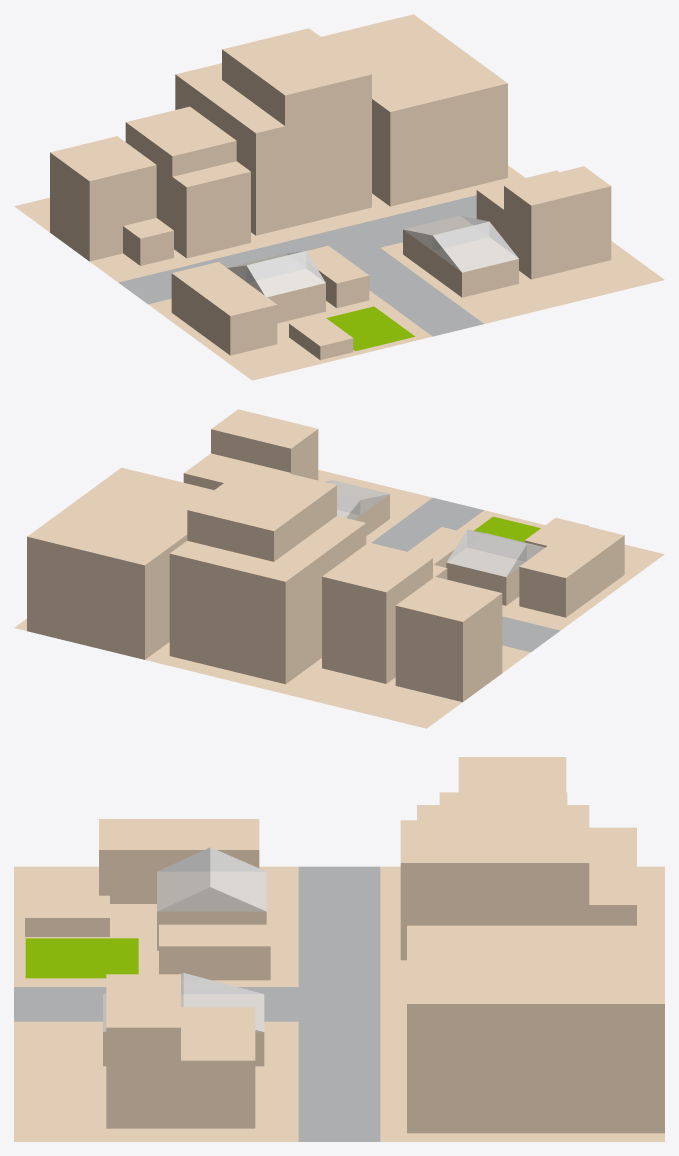
The model's file is map10.gltf.
The picture shows the model from 3 angles, top to bottom: view 1: azimuth 30°, elevation 25°; view 2: azimuth 150°, elevation 25°; view 3: azimuth 270°, elevation 25°; orthographic projection. The views are drawn at different scales.
Visible parts, largest first — view 1: Node69, Node17, Node15, Node4, Node24, Node6, Node74, Node1, Node83, Node2, Node77, Node5 (+34 smaller); view 2: Node71, Node16, Node15, Node6, Node13, Node10, Node74, Node72, Node73, Node8, Node11, Node1 (+26 smaller); view 3: Node18, Node15, Node4, Node25, Node70, Node2, Node1, Node6, Node74, Node3, Node5, Node33 (+25 smaller).
Boxes of the visible parts, bbox=[...] form: Node69: bbox=[256, 74, 371, 235]; Node17: bbox=[390, 83, 507, 206]; Node15: bbox=[321, 14, 507, 111]; Node4: bbox=[380, 241, 664, 323]; Node24: bbox=[531, 186, 611, 279]; Node6: bbox=[14, 165, 524, 282]; Node74: bbox=[222, 28, 371, 95]; Node1: bbox=[148, 290, 432, 380]; Node83: bbox=[186, 171, 250, 258]; Node2: bbox=[118, 195, 476, 293]; Node77: bbox=[89, 165, 156, 261]; Node5: bbox=[340, 209, 483, 330]; Node71: bbox=[169, 553, 285, 684]; Node16: bbox=[27, 536, 144, 659]; Node15: bbox=[27, 467, 213, 565]; Node6: bbox=[14, 619, 530, 728]; Node13: bbox=[322, 576, 386, 683]; Node10: bbox=[395, 605, 462, 702]; Node74: bbox=[188, 464, 336, 530]; Node72: bbox=[285, 523, 366, 683]; Node73: bbox=[170, 516, 365, 581]; Node8: bbox=[463, 593, 502, 701]; Node11: bbox=[322, 542, 432, 592]; Node1: bbox=[457, 510, 664, 630]; Node18: bbox=[407, 1004, 664, 1133]; Node15: bbox=[407, 925, 664, 1003]; Node4: bbox=[14, 1021, 298, 1141]; Node25: bbox=[106, 1027, 255, 1128]; Node70: bbox=[417, 863, 636, 925]; Node2: bbox=[339, 866, 380, 1141]; Node1: bbox=[14, 866, 298, 986]; Node6: bbox=[380, 866, 664, 1141]; Node74: bbox=[417, 805, 589, 862]; Node3: bbox=[14, 866, 339, 1004]; Node5: bbox=[14, 1004, 339, 1141]; Node33: bbox=[99, 819, 259, 849].
Size of the model in its own units: 2139194 by 659553 by 2139194.
